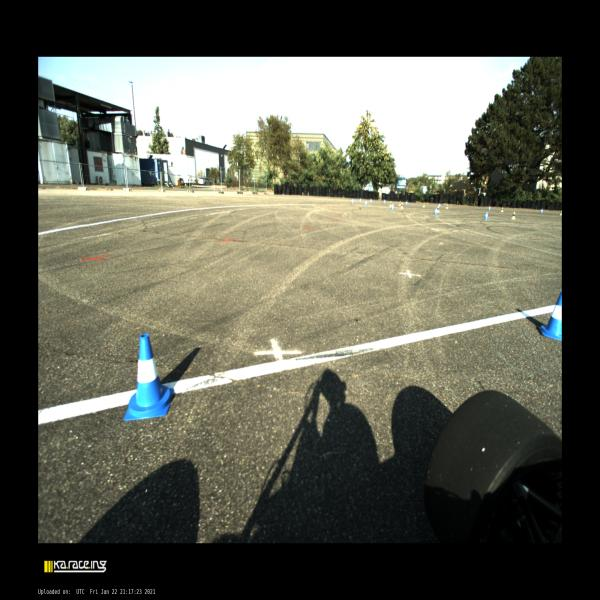blue_cone: (122, 333, 174, 421), (538, 290, 562, 340), (433, 207, 438, 215), (484, 212, 488, 220), (391, 203, 394, 210), (540, 209, 543, 214), (351, 198, 353, 204), (359, 198, 361, 203), (365, 201, 367, 206), (384, 199, 386, 204), (405, 201, 407, 205), (488, 206, 490, 210), (370, 199, 372, 203)
yellow_cone: (511, 211, 516, 220), (400, 202, 403, 209), (389, 200, 392, 206), (422, 202, 425, 208), (559, 210, 562, 216), (398, 201, 401, 206), (445, 204, 448, 209), (501, 207, 503, 212)
